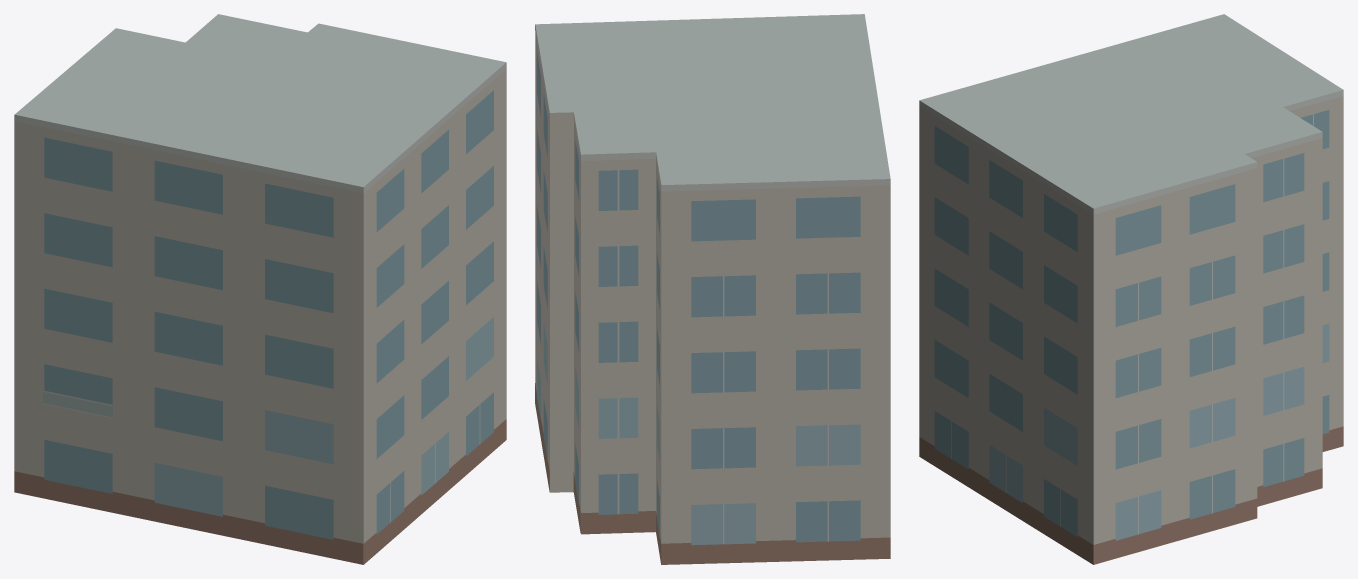
File: survey-upis-33039684.glb
3 views of the same model, side by side, from view 1: azimuth 30°, elevation 25°; view 2: azimuth 150°, elevation 25°; view 3: azimuth 270°, elevation 25° (orthographic). The views are drawn at different scales.
Parts seen in each view (by area): view 1: survey-upis-33039684.tmp; view 2: survey-upis-33039684.tmp; view 3: survey-upis-33039684.tmp.
Part boxes in pixels (<box>): survey-upis-33039684.tmp: <box>14,14,506,564</box>; survey-upis-33039684.tmp: <box>535,14,890,564</box>; survey-upis-33039684.tmp: <box>919,14,1343,564</box>.
Size of the model in its own units: 17.11 by 14.6 by 15.77.
